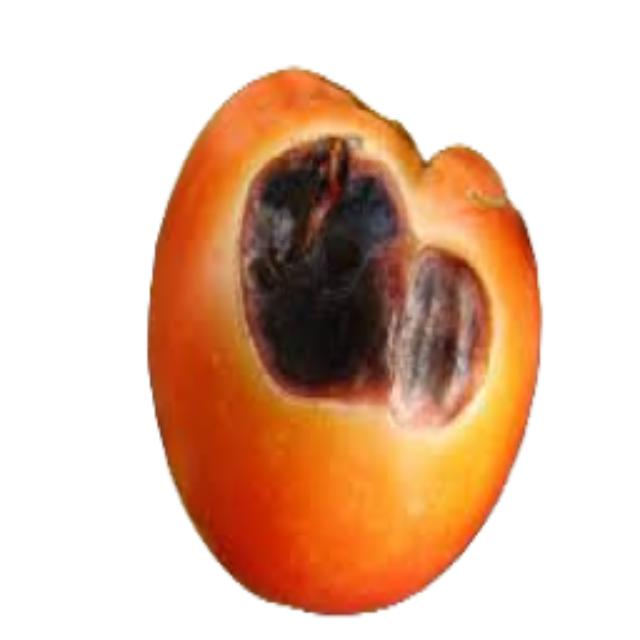defect: (135, 58, 550, 620)
